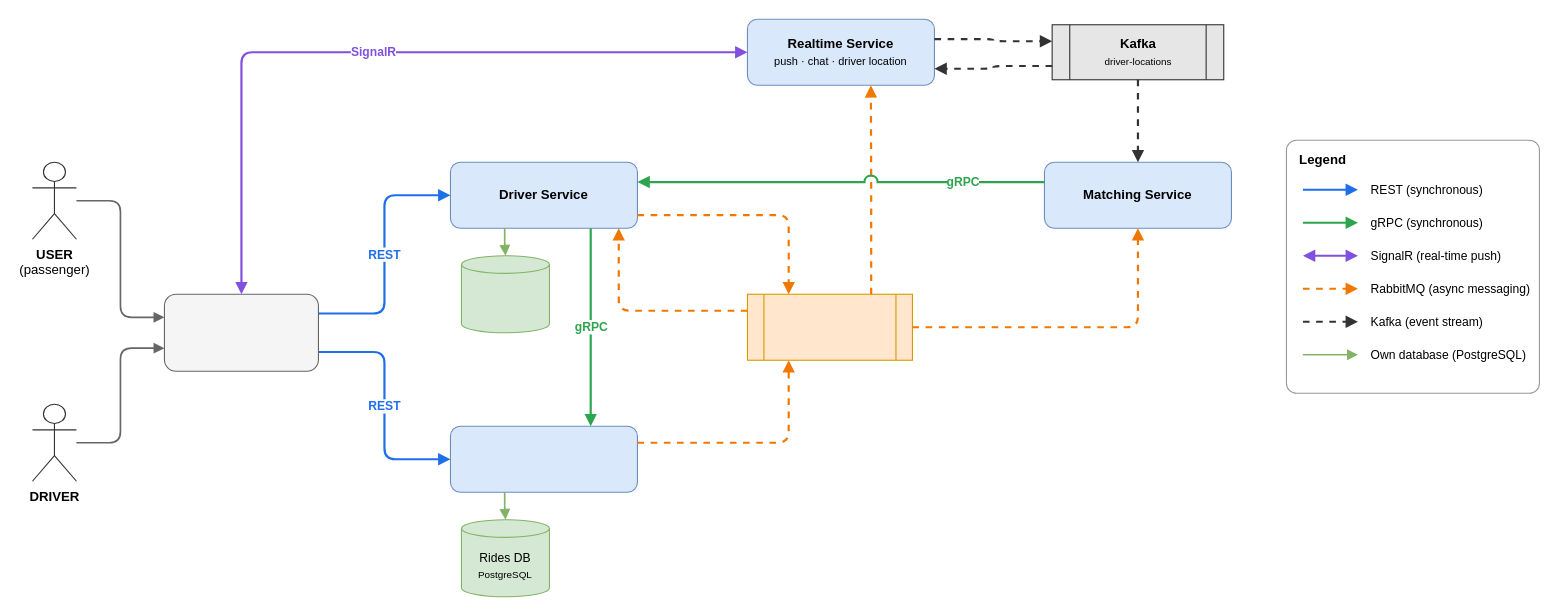
The diagram is 1559 pixels wide and 616 high, and some of its shapes have lost their labels. The centre of each missing label's shape, as x and y in pixels:
"Drivers DB PostgreSQL" goes at (504,294).
"RabbitMQ" goes at (829,326).
"Ride Service" goes at (543,458).
"Web App React" goes at (240,332).
